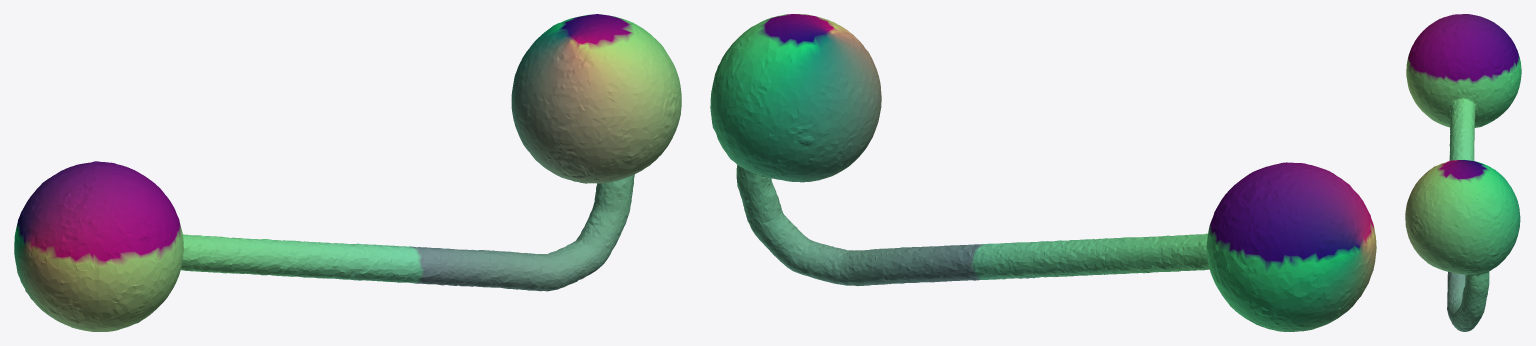
Rendered from twoballs-16.off.obj.
3 views of the same model, side by side, from view 1: azimuth 30°, elevation 25°; view 2: azimuth 150°, elevation 25°; view 3: azimuth 270°, elevation 25° (orthographic). The views are drawn at different scales.
Bounding box in the file's own units: 1.71 × 0.6397 × 0.3936.
